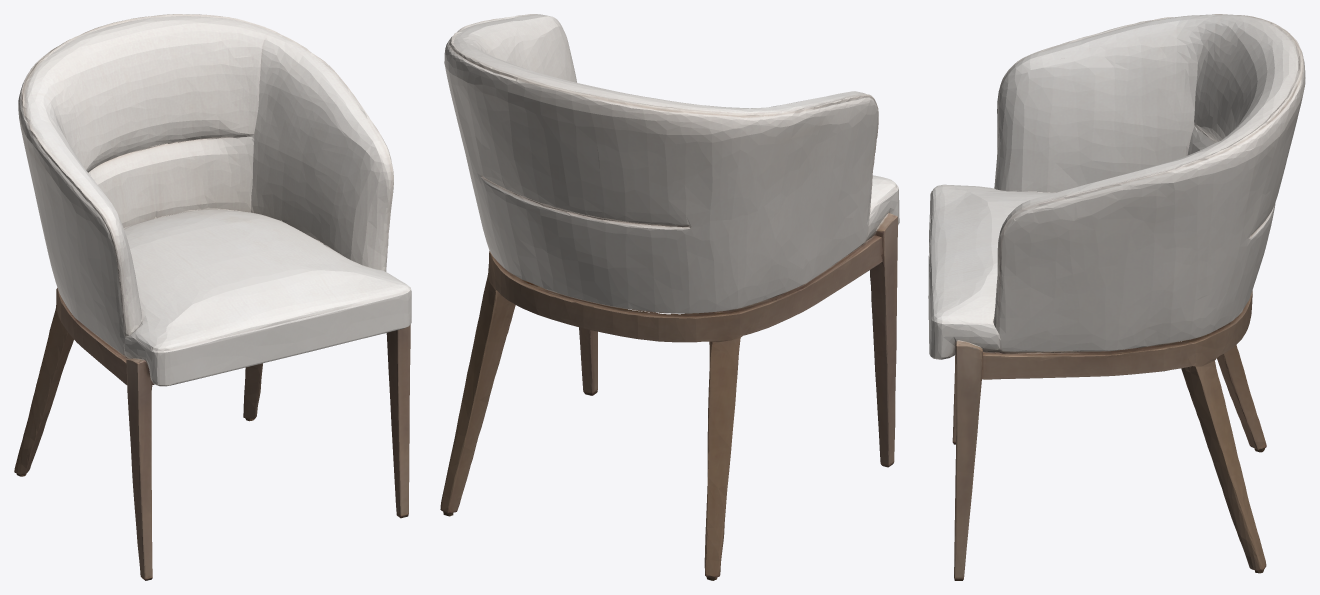
File: SILLA PARME.glb
The picture shows the model from 3 angles, left to right: view 1: azimuth 30°, elevation 25°; view 2: azimuth 150°, elevation 25°; view 3: azimuth 270°, elevation 25°; orthographic projection. The views are drawn at different scales.
Parts seen in each view (by area): view 1: world; view 2: world; view 3: world.
Part boxes in pixels (x1,y1,x2,y2): world: (14,14,411,580); world: (440,14,899,580); world: (928,14,1305,580).
Size of the model in its own units: 0.7638 by 1 by 0.7627.
1 material, 1 textured.
